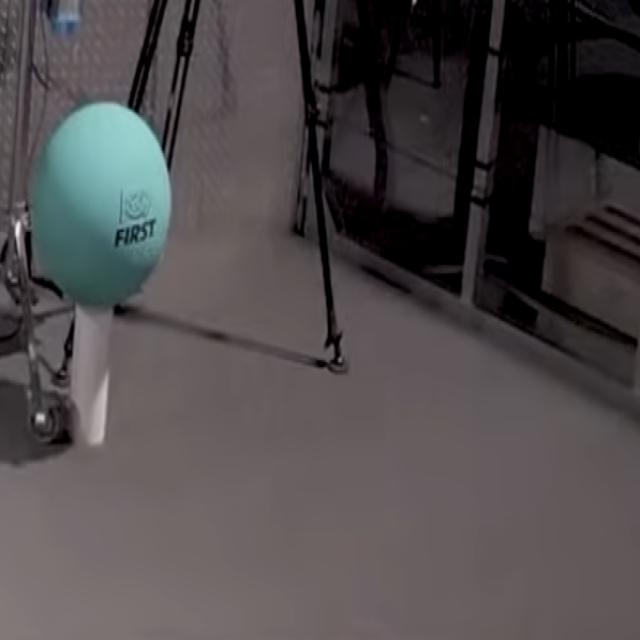Algae: (32, 102, 171, 305)
Coral: (68, 303, 112, 447)
